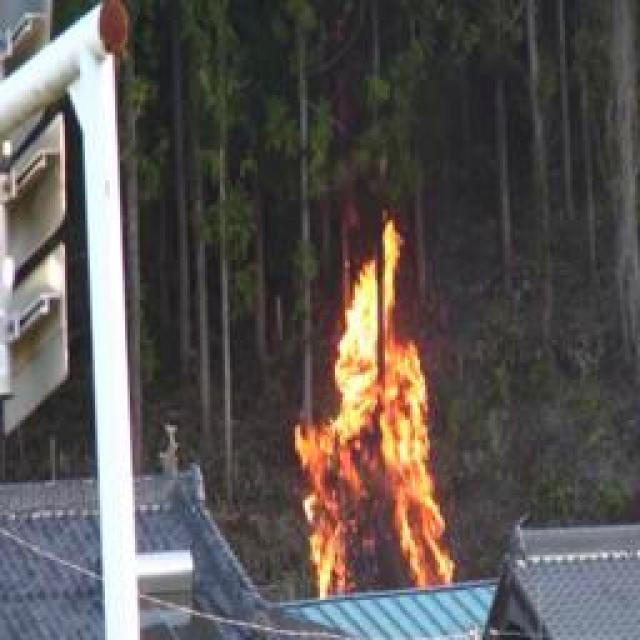Fire: (299, 227, 450, 599)
